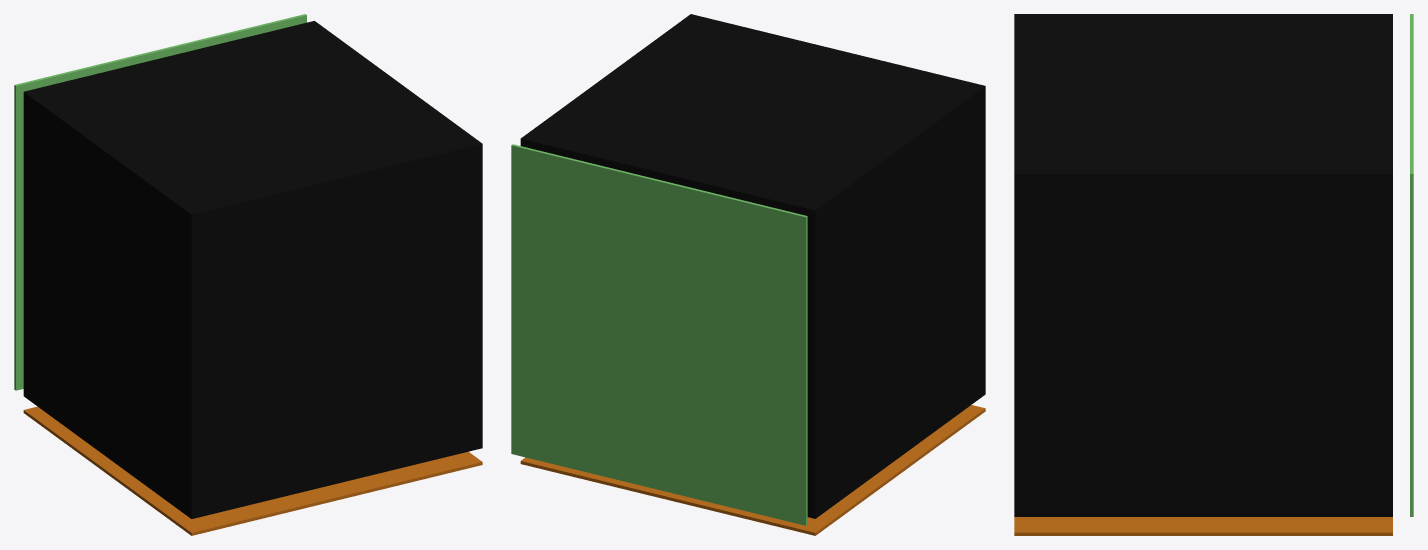
The picture shows the model from 3 angles, left to right: view 1: azimuth 30°, elevation 25°; view 2: azimuth 150°, elevation 25°; view 3: azimuth 270°, elevation 25°; orthographic projection. The views are drawn at different scales.
Parts seen in each view (by area): view 1: Cube, red-3, green-1; view 2: Cube, green-1, red-3; view 3: Cube, red-3, green-1.
Boxes of the visible parts, x1=… form: Cube: x1=23, y1=21, x2=482, y2=518; red-3: x1=23, y1=406, x2=482, y2=535; green-1: x1=14, y1=14, x2=306, y2=390; Cube: x1=520, y1=14, x2=985, y2=518; green-1: x1=511, y1=144, x2=807, y2=525; red-3: x1=520, y1=405, x2=985, y2=535; Cube: x1=1014, y1=14, x2=1392, y2=516; red-3: x1=1014, y1=517, x2=1392, y2=535; green-1: x1=1410, y1=14, x2=1413, y2=516.
Size of the model in its own units: 2 by 2.11 by 2.11.
